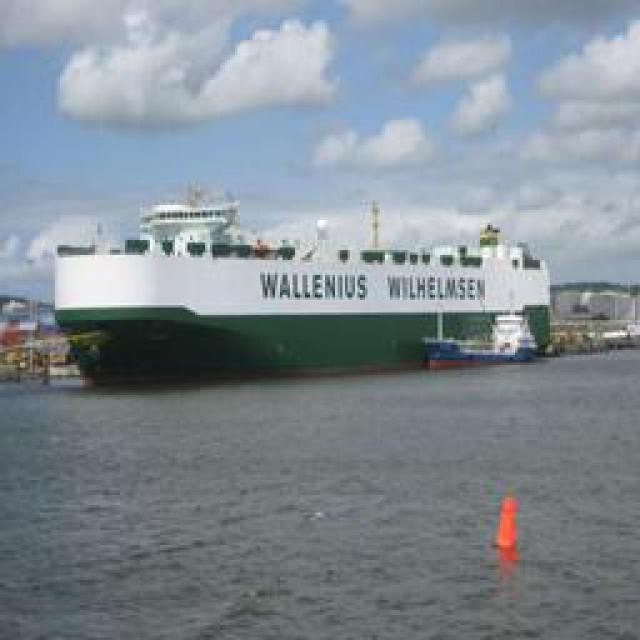Ship: (47, 197, 555, 370)
